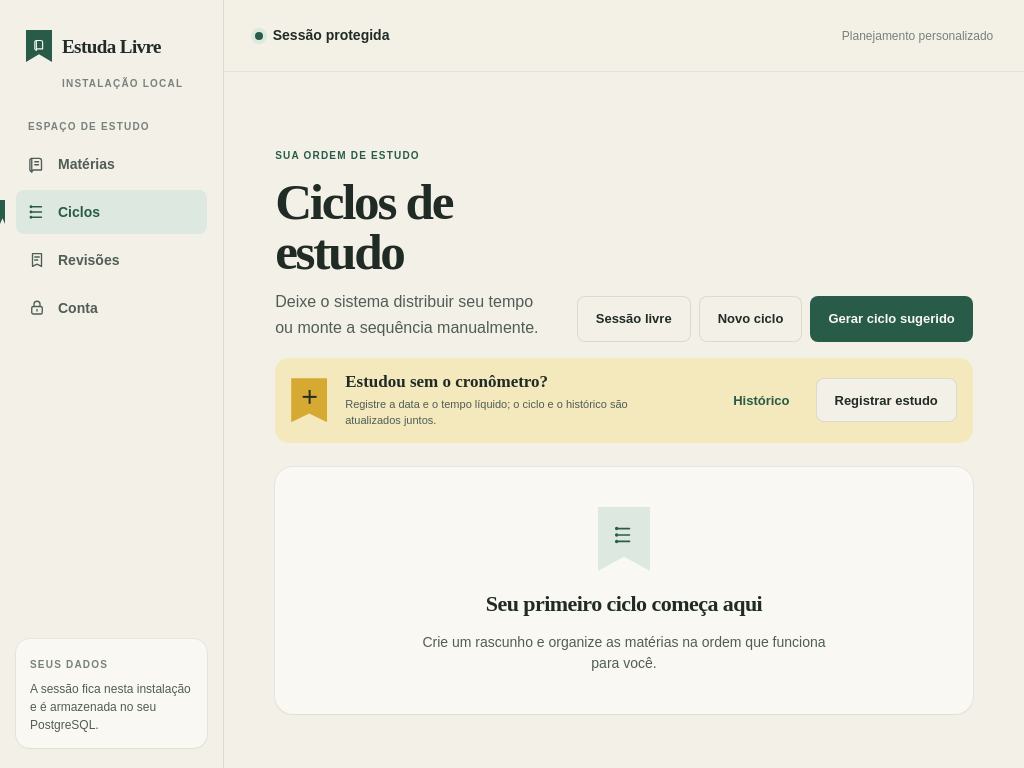
Test: authentication journey › deletes a completed session only after explicit confirmation
What coordinates should you click on to do the following:
click the button "Histórico"
I would click on:
 (761, 400)
Its box is [715,378,808,422].
(page scrolled)
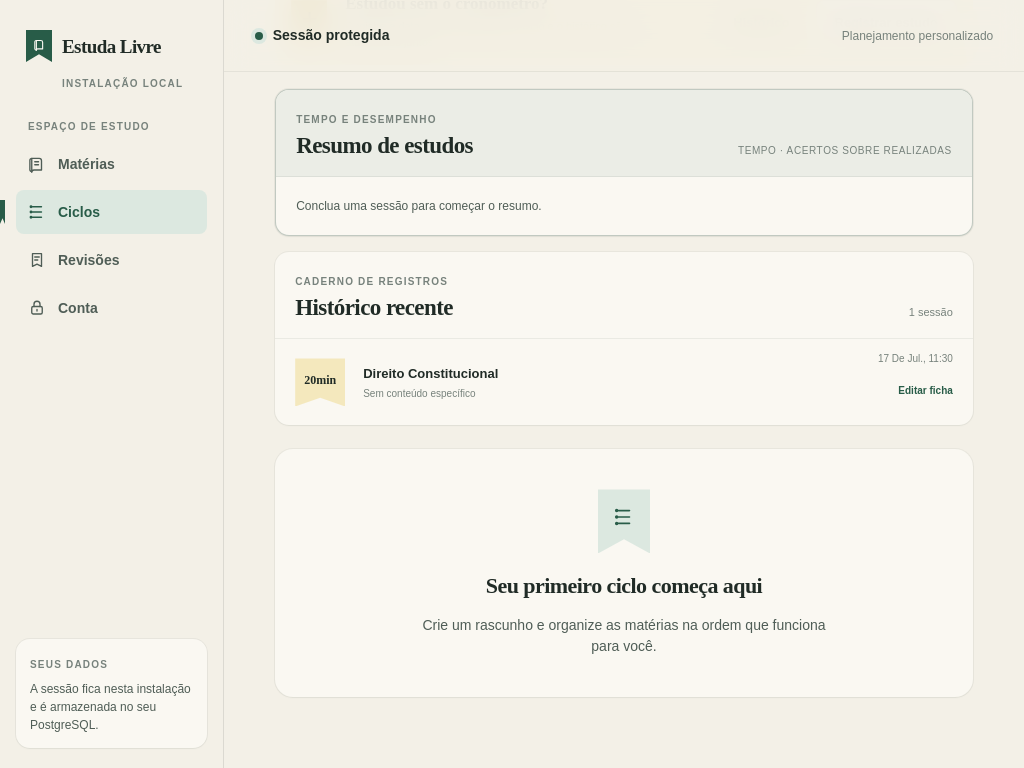
What coordinates should you click on to do the following:
click the button with aria-label "Editar ficha de Direito Constitucional"
I would click on:
 (926, 391)
Its box is [898,369,953,413].
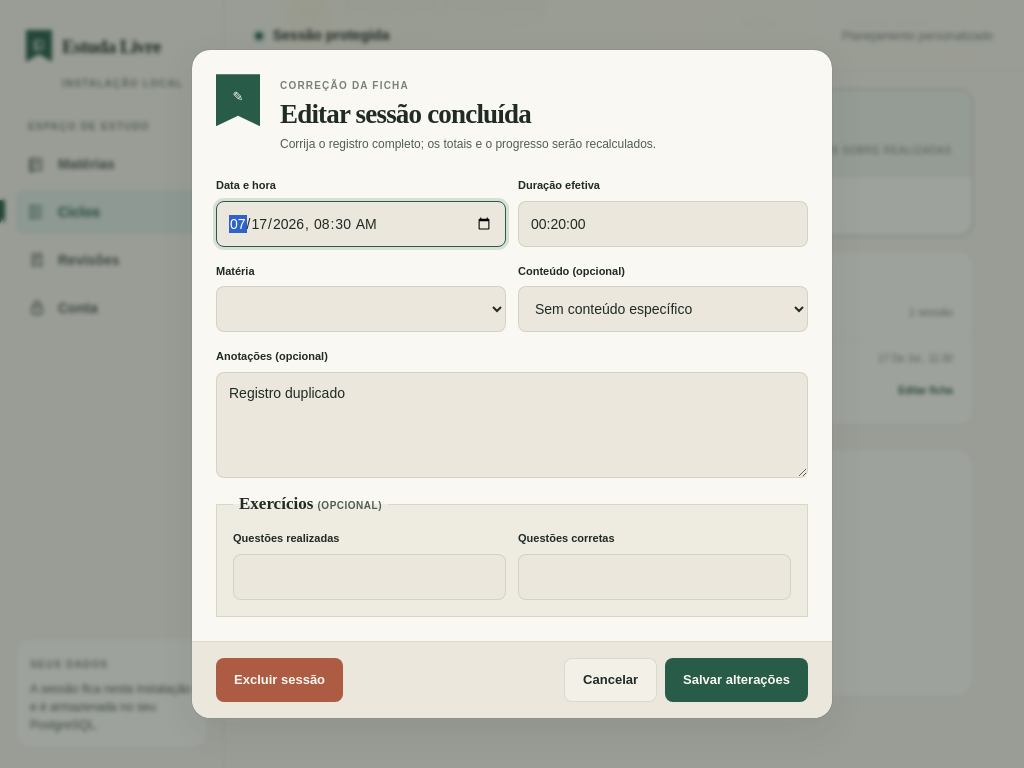
What coordinates should you click on to do the following:
click the button "Excluir sessão"
I would click on:
 (280, 680)
Its box is [216,658,343,702].
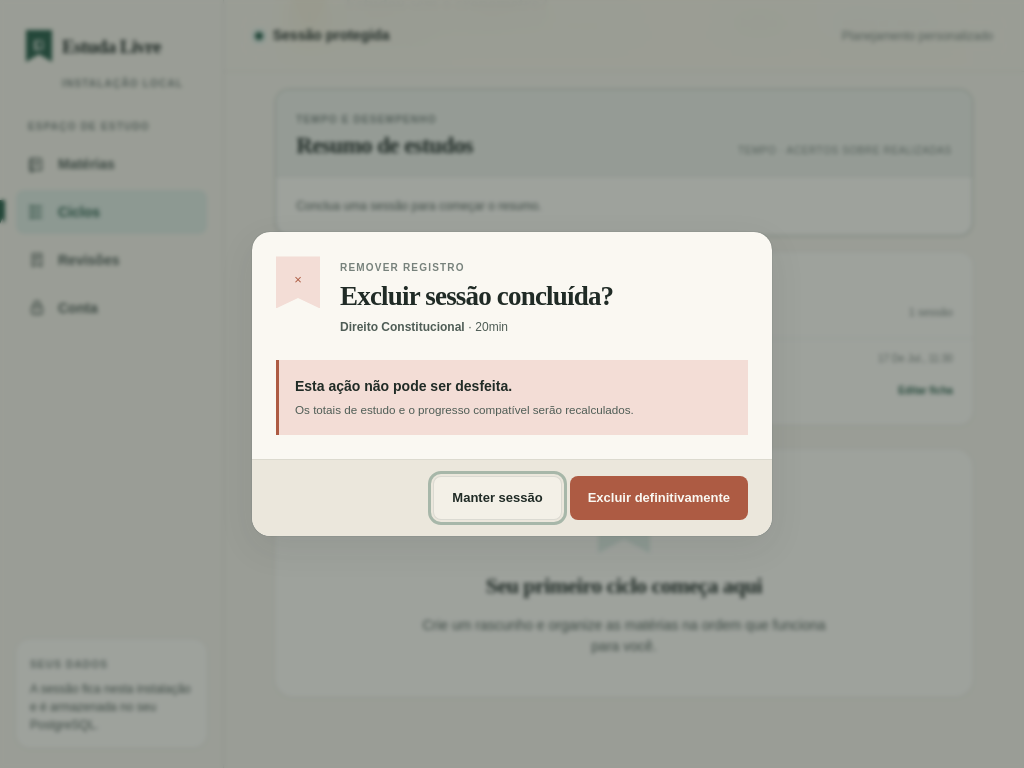
Result: the text "Esta ação não pode ser desfeita." is shown at [295,378,512,394]
What coordinates should you click on to do the following:
click the button "Excluir definitivamente"
I would click on:
 (659, 498)
Its box is [570,476,748,520].
(page scrolled)
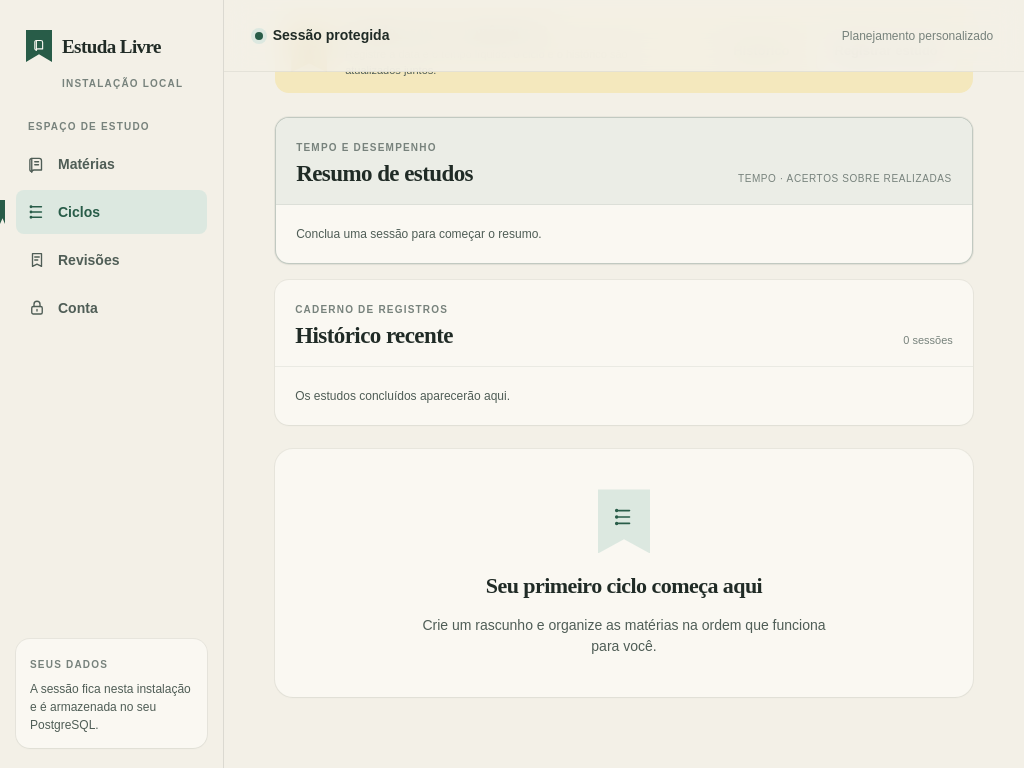
Result: the text "Os estudos concluídos aparecerão aqui." is shown at [295,389,510,403]
